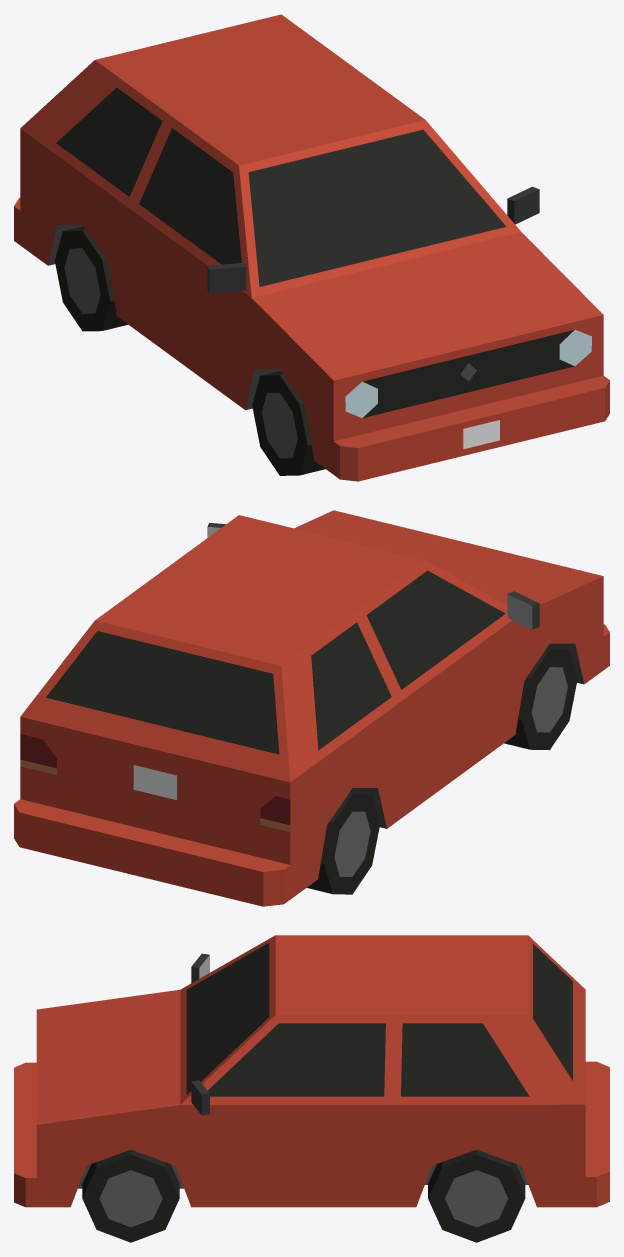
File: Veh_Coupe_02_Red.glb
3 views of the same model, one above another, from view 1: azimuth 30°, elevation 25°; view 2: azimuth 150°, elevation 25°; view 3: azimuth 270°, elevation 25° (orthographic). The views are drawn at different scales.
Visible parts, largest first — view 1: Coupe_02_Red, Wheel_RR, Wheel_FR; view 2: Coupe_02_Red, Wheel_RR, Wheel_FR; view 3: Coupe_02_Red, Wheel_FL, Wheel_RL.
Part boxes in pixels (x1,y1,x2,y2): Coupe_02_Red: (14, 14, 609, 481); Wheel_RR: (55, 226, 127, 331); Wheel_FR: (252, 370, 325, 475); Coupe_02_Red: (14, 510, 609, 906); Wheel_RR: (307, 789, 380, 894); Wheel_FR: (504, 645, 577, 750); Coupe_02_Red: (14, 935, 609, 1207); Wheel_FL: (82, 1149, 179, 1242); Wheel_RL: (428, 1149, 525, 1242).
Size of the model in its own units: 1.12 by 0.78 by 2.01.
Materials: 1 (1 with a texture image).
